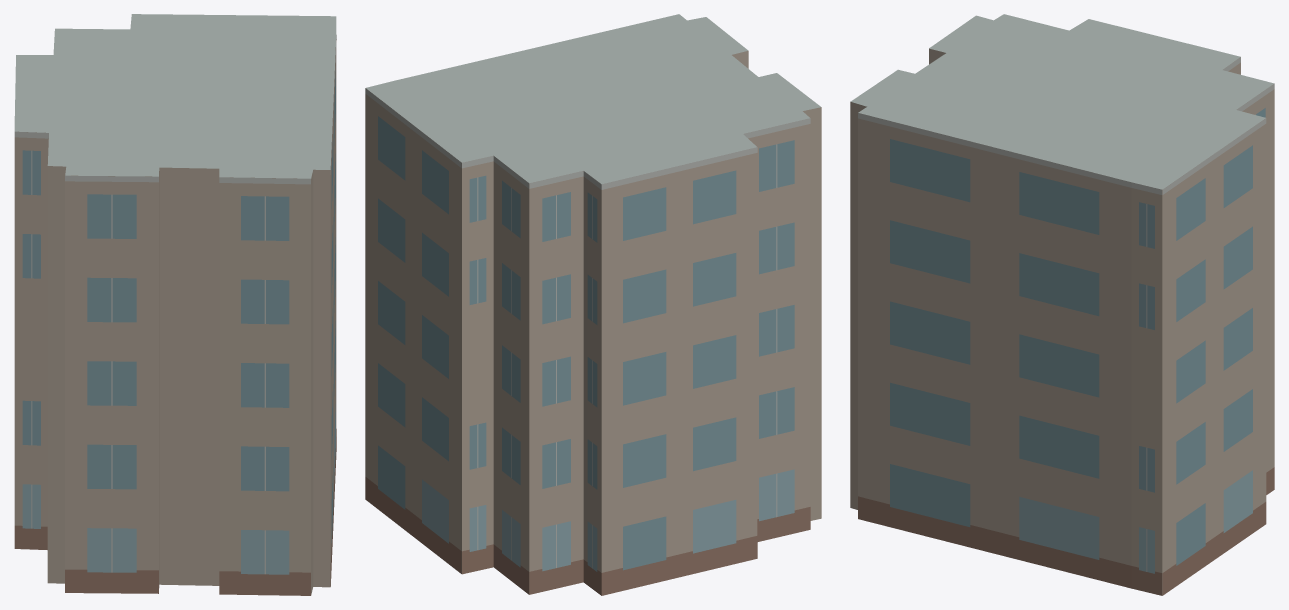
File: survey-upis-32837358.glb
3 renders of one model, left to right at view 1: azimuth 30°, elevation 25°; view 2: azimuth 150°, elevation 25°; view 3: azimuth 270°, elevation 25°, orthographic. The views are drawn at different scales.
Parts seen in each view (by area): view 1: survey-upis-32837358.tmp; view 2: survey-upis-32837358.tmp; view 3: survey-upis-32837358.tmp.
Part boxes in pixels (<box>): survey-upis-32837358.tmp: <box>14,14,336,595</box>; survey-upis-32837358.tmp: <box>365,14,821,595</box>; survey-upis-32837358.tmp: <box>850,14,1274,595</box>.
Size of the model in its own units: 16.5 by 17.78 by 16.84.
